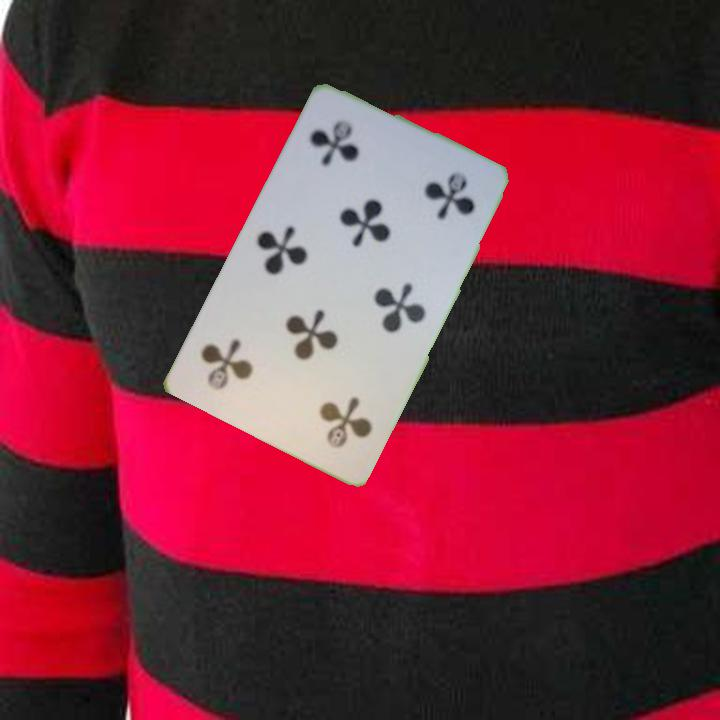c_8.png: (266, 349, 393, 469), (290, 96, 416, 216)
